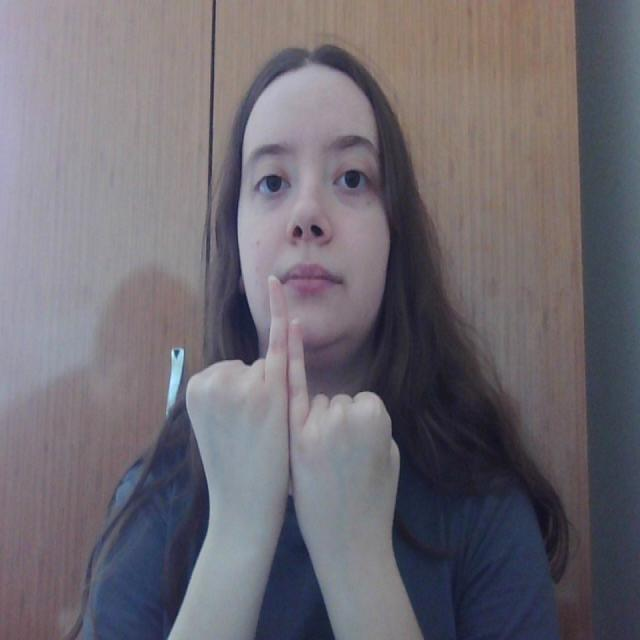Kardes: (178, 269, 406, 556)
